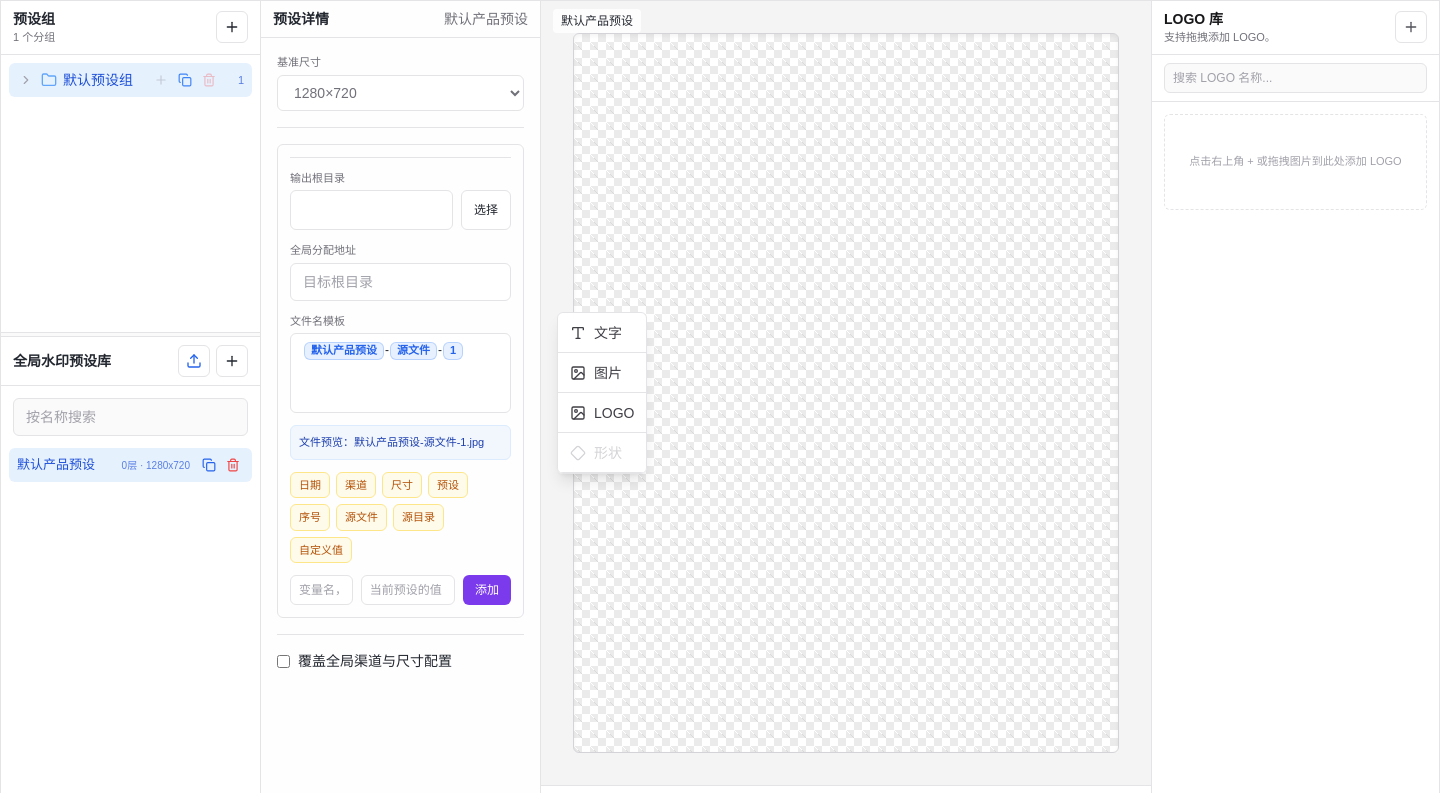
Test: PresetManagementTab › creates and renames preset groups without browser prompts
Click the button named "新建预设组" at (232, 27), box [216,11,248,43]
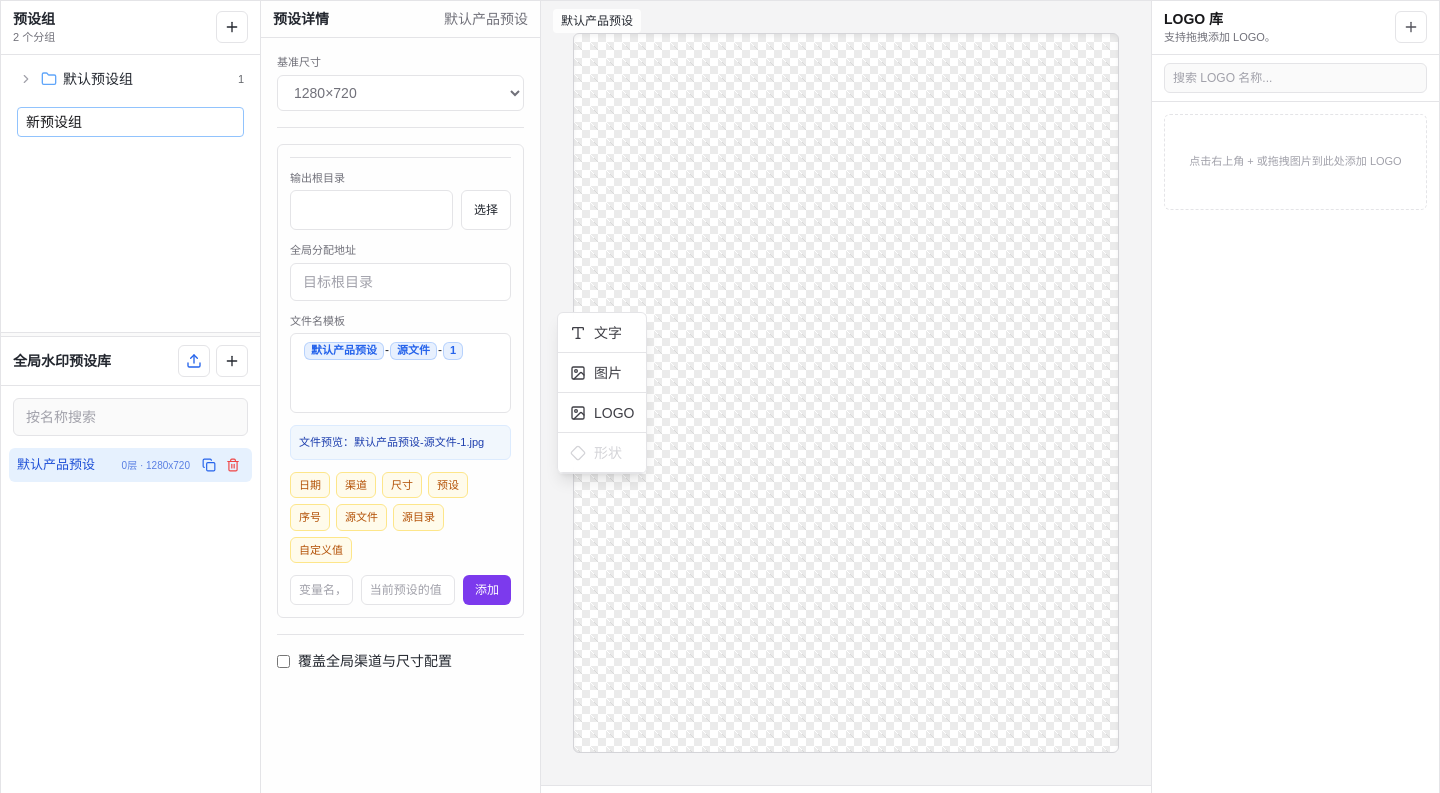
Check: the field named "重命名预设组 新预设组" is shown
Replace the text in the field named "重命名预设组 新预设组" with "已重命名组" at (130, 122), box [17,106,244,136]
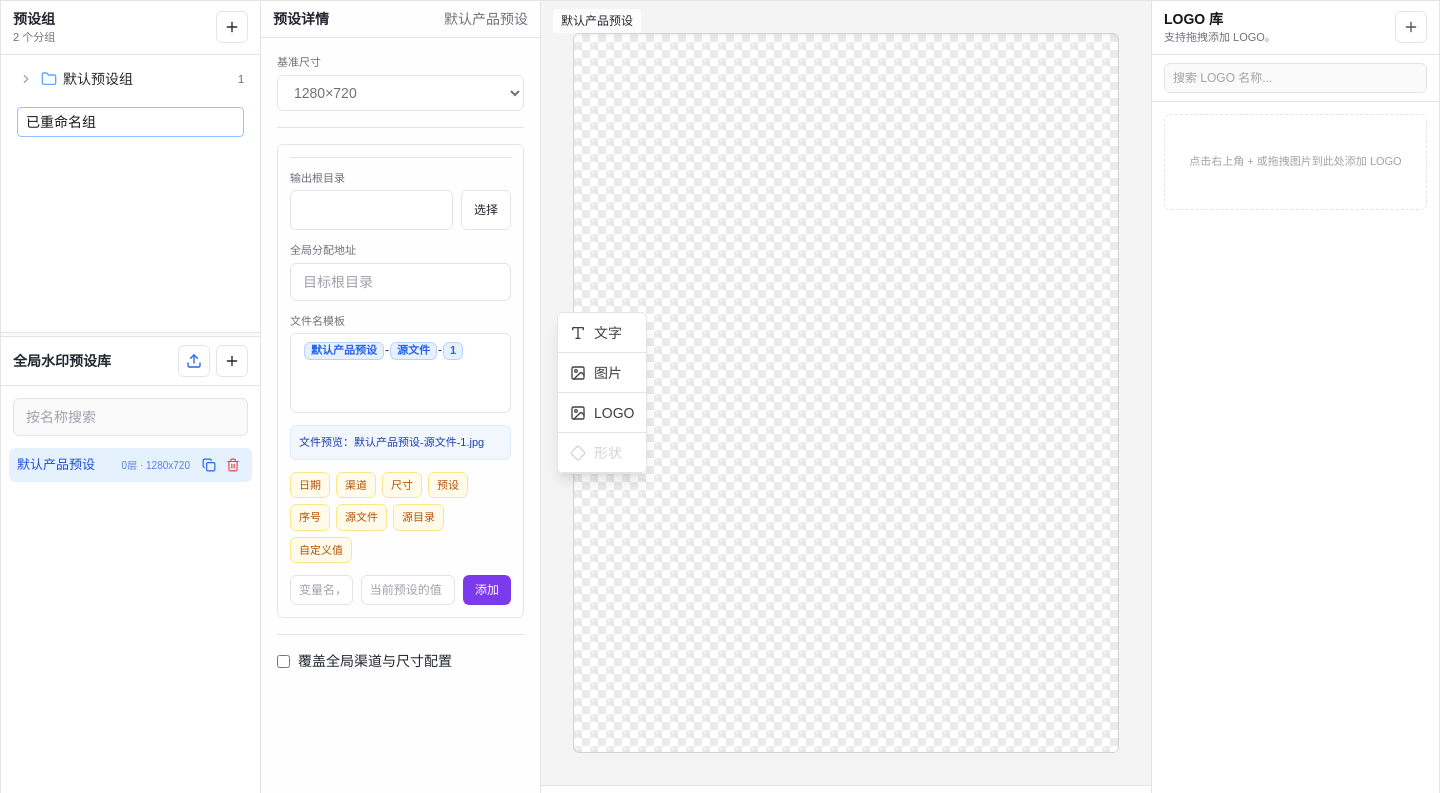
Press Enter in the field named "重命名预设组 新预设组", box [17,106,244,136]
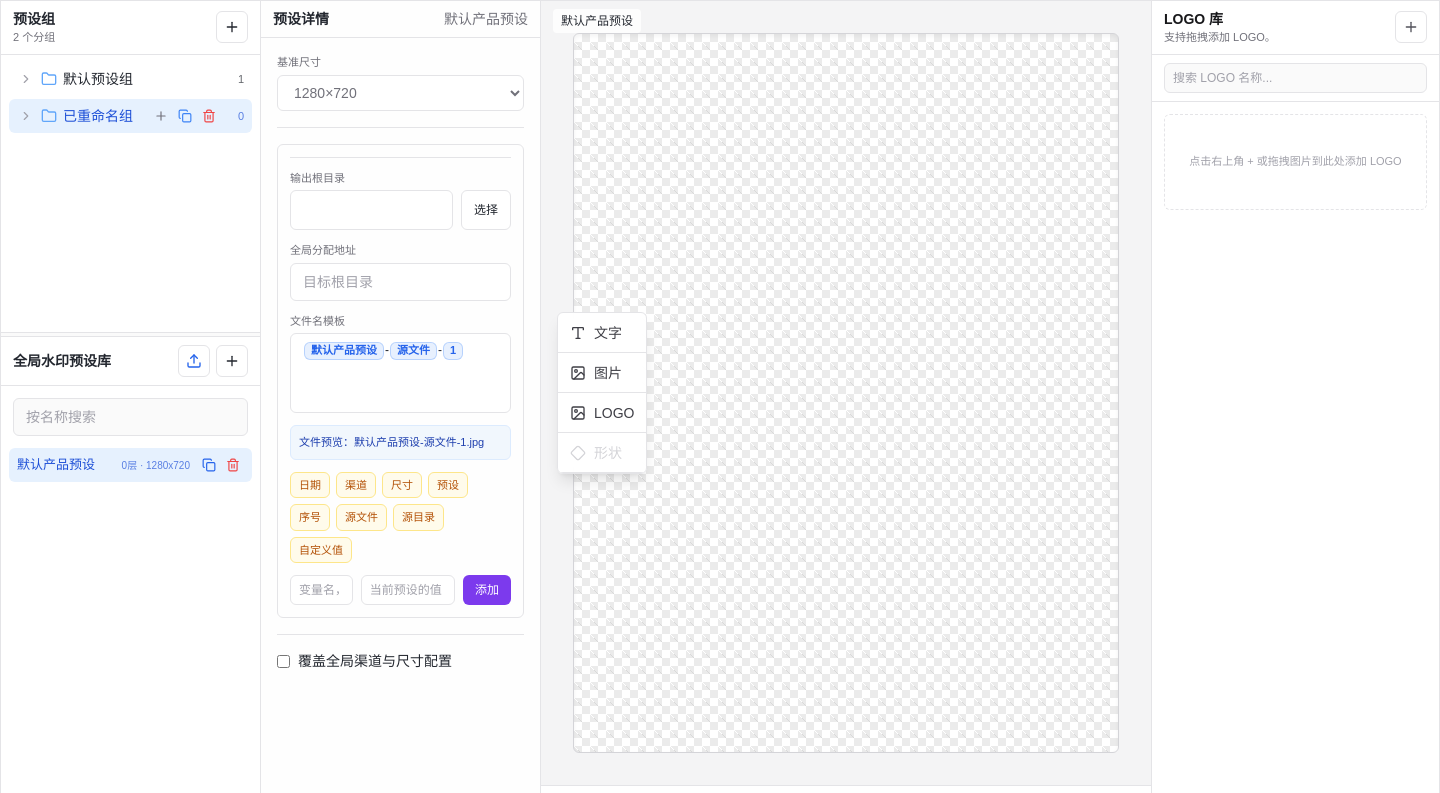
Check: the text "已重命名组" is shown, box [63,106,133,126]
